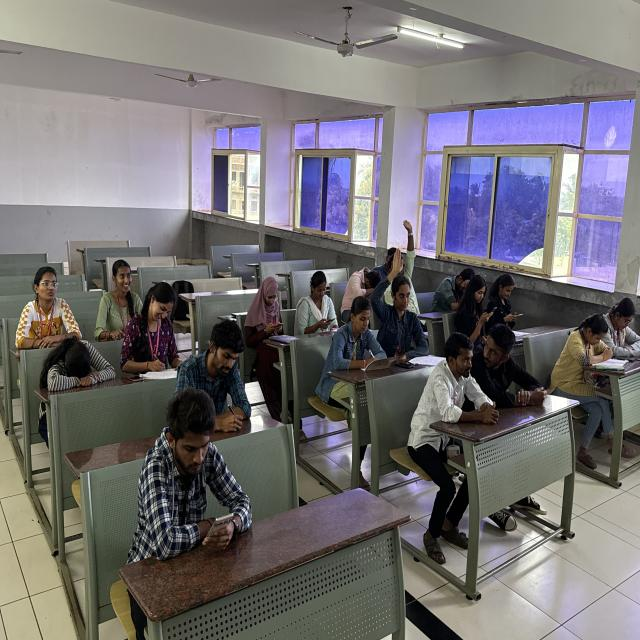Hand Rising: (368, 252, 438, 363)
Reading: (545, 299, 618, 390), (597, 281, 640, 369)
U: (42, 324, 119, 393)
Using Phone: (118, 383, 261, 566), (235, 268, 298, 364), (435, 273, 496, 345), (293, 254, 344, 336), (486, 263, 530, 327)
Writing: (170, 315, 263, 433), (112, 280, 190, 376), (322, 293, 396, 390)
